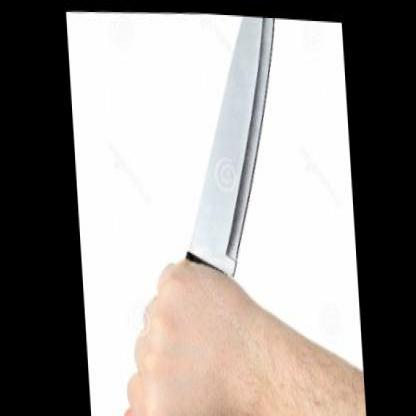knife: (107, 5, 304, 373)
